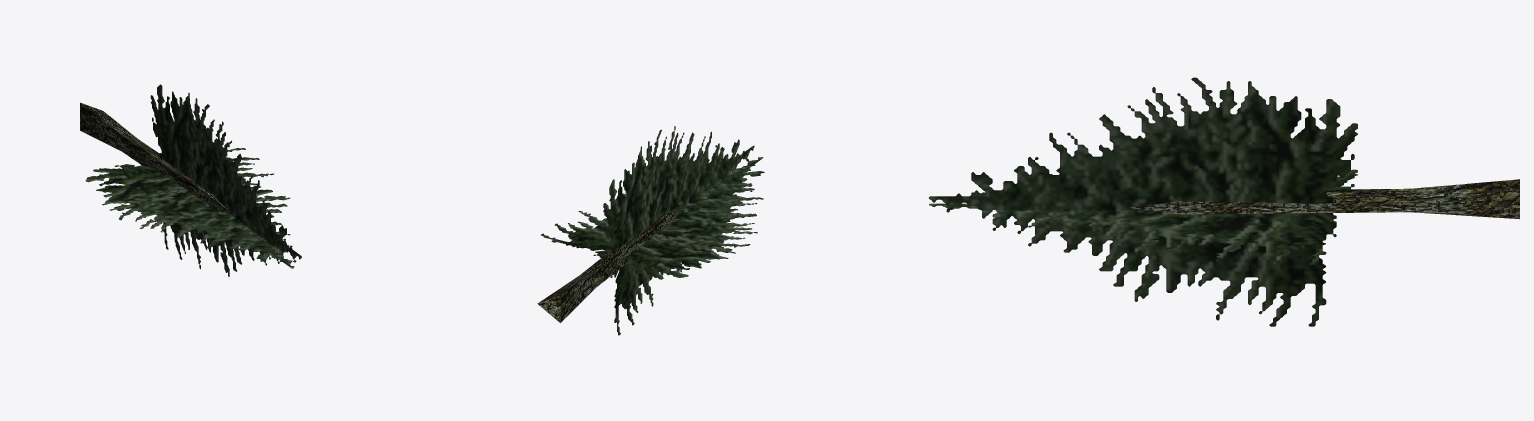
File: tree16.obj
3 views of the same model, side by side, from view 1: azimuth 30°, elevation 25°; view 2: azimuth 150°, elevation 25°; view 3: azimuth 270°, elevation 25° (orthographic). The views are drawn at different scales.
Size of the model in its own units: 33.93 by 33.93 by 47.11.
2 materials, 2 textured.
